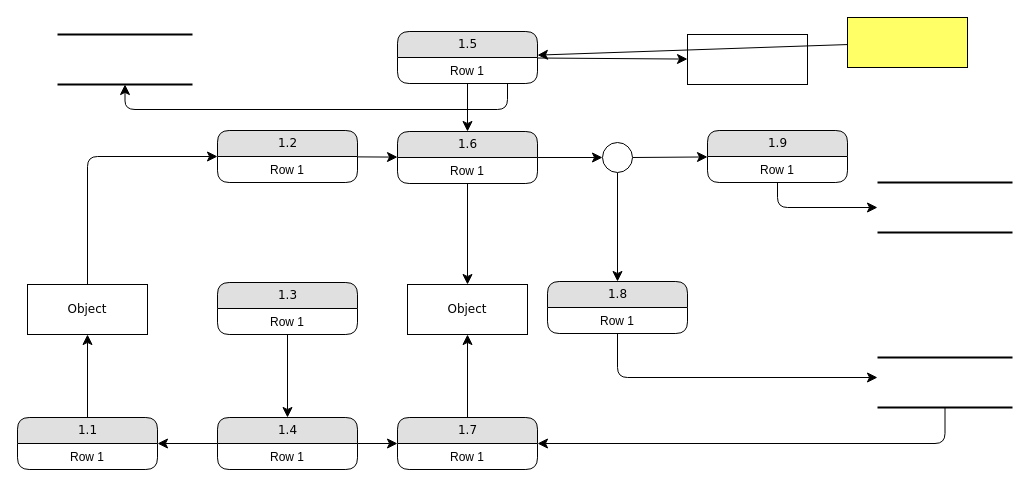
This 1031x490 diagram has some shape labels left out. The shapes that lost their labels are listed below. From the top down, each one's centre as x and y in pixels, then its label:
At (x=124, y=59): "Student Information System".
At (x=747, y=59): "Output".
At (x=907, y=42): "Test".
At (x=944, y=207): "ML Script Output".
At (x=944, y=382): "Power BI".
